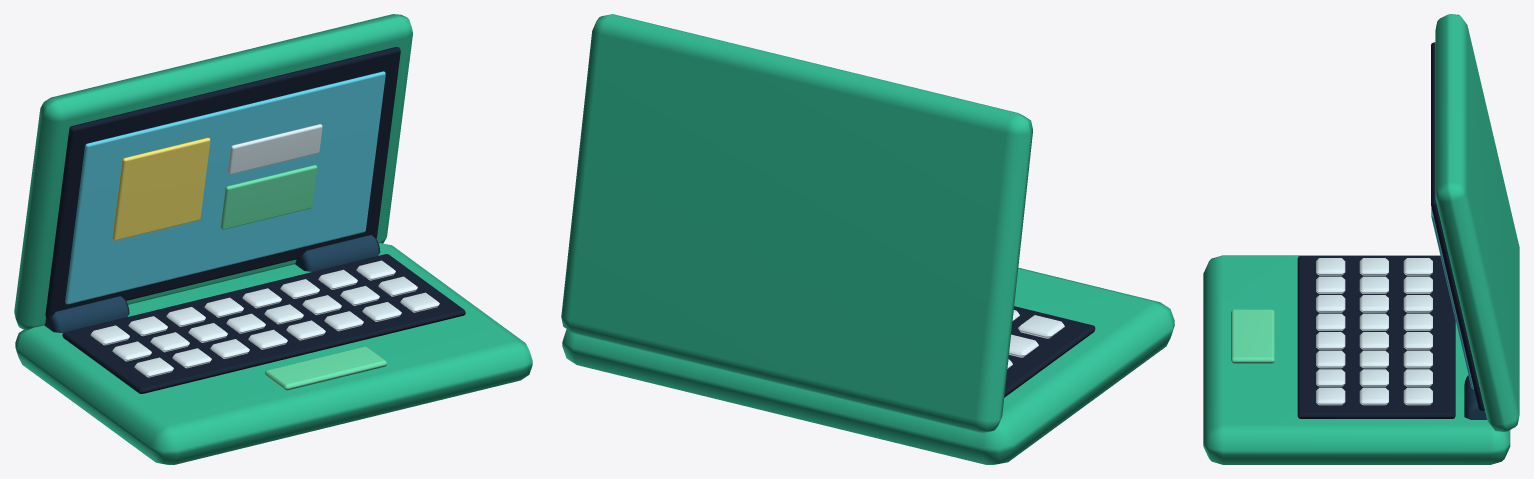
Rendered from laptop.glb.
3 renders of one model, left to right at view 1: azimuth 30°, elevation 25°; view 2: azimuth 150°, elevation 25°; view 3: azimuth 270°, elevation 25°, orthographic. The views are drawn at different scales.
Parts seen in each view (by area): view 1: laptop; view 2: laptop; view 3: laptop.
Boxes of the visible parts, <box> form: laptop: <box>14,14,532,464</box>; laptop: <box>561,14,1174,464</box>; laptop: <box>1203,14,1519,464</box>.
Bounding box in the file's own units: 1 × 0.7088 × 0.7212.
Materials: 1 (1 with a texture image).
